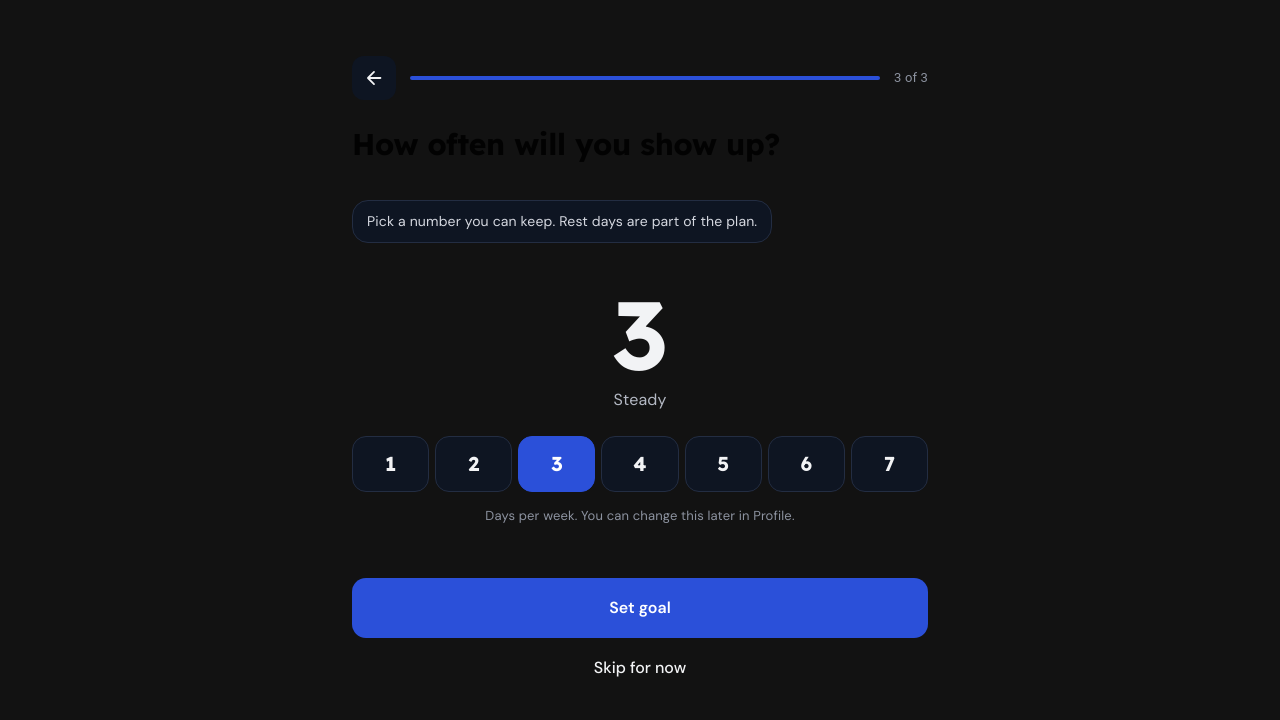
the Skip for now button › opens the sheet and saves nothing
Click the button "Skip for now": point(640, 668) [352, 644, 928, 692]
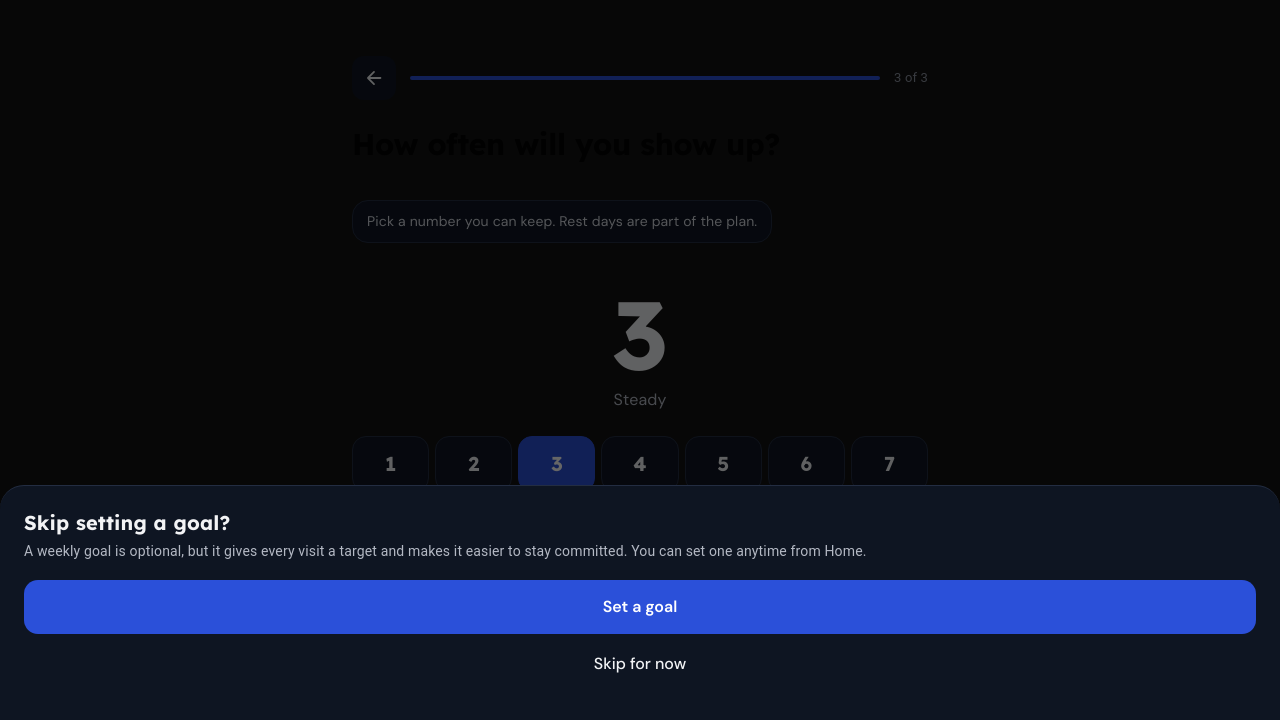
Check: the dialog "Skip setting a goal?" is shown, box [0, 485, 1279, 719]
